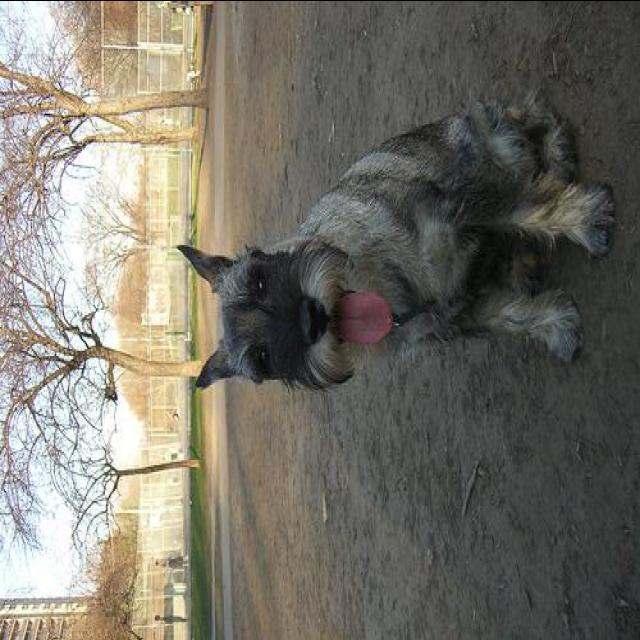standard_schnauzer: (175, 103, 617, 394)
